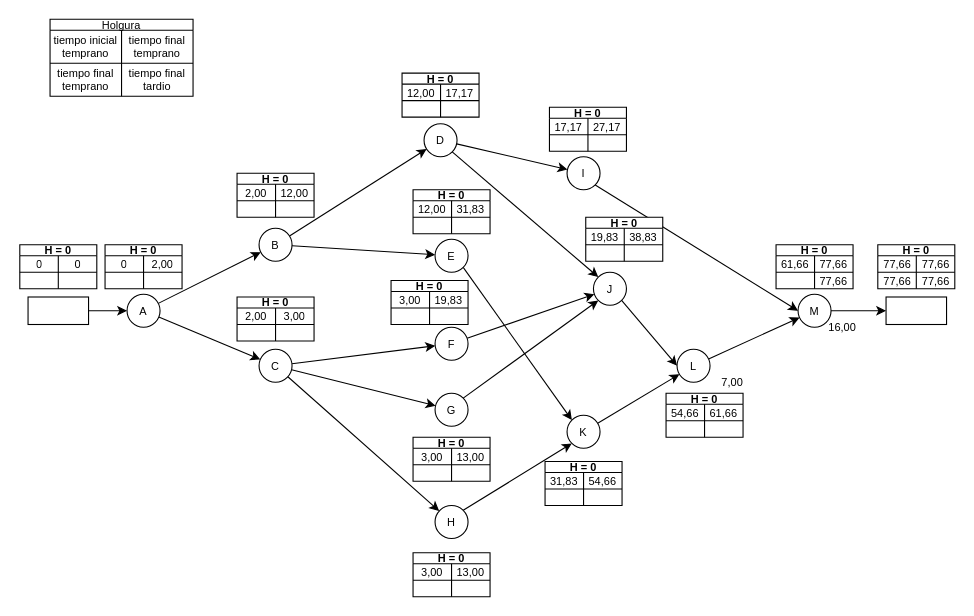
The diagram is 974 pixels wide and 616 high, and some of its shapes have lost their labels. Here are the shapes that lost their labels. From the top down, the centre of each, then its label:
At (x=58, y=310): "Inicio".
At (x=916, y=310): "Fin".
